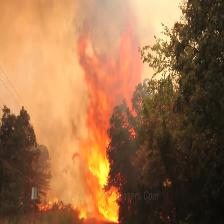fire: (55, 29, 173, 224)
